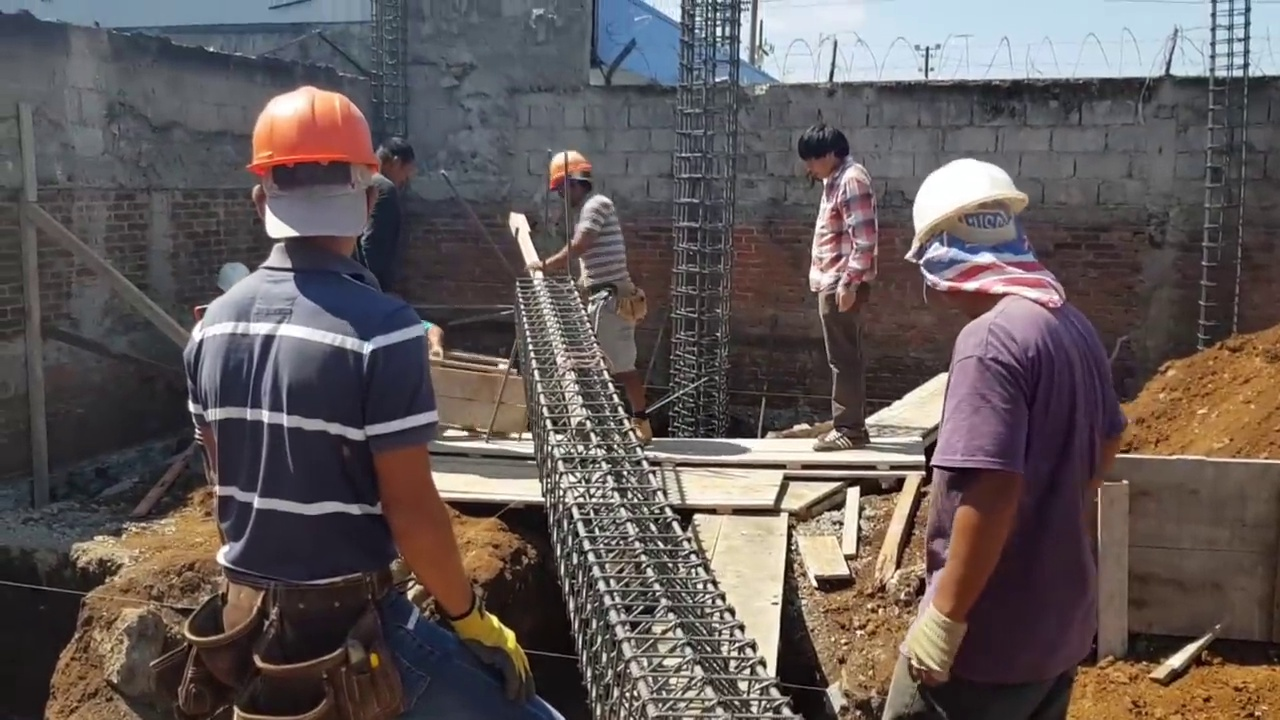helmet: (237, 83, 378, 183), (903, 155, 1035, 251), (541, 150, 591, 199), (213, 256, 253, 298)
helmet-off: (797, 125, 850, 183), (376, 135, 418, 189)
helmet-on: (230, 86, 393, 278), (901, 150, 1062, 324), (541, 151, 595, 220)
person: (173, 91, 513, 720), (883, 153, 1110, 720), (524, 145, 655, 448), (801, 121, 882, 455), (364, 130, 425, 289)
